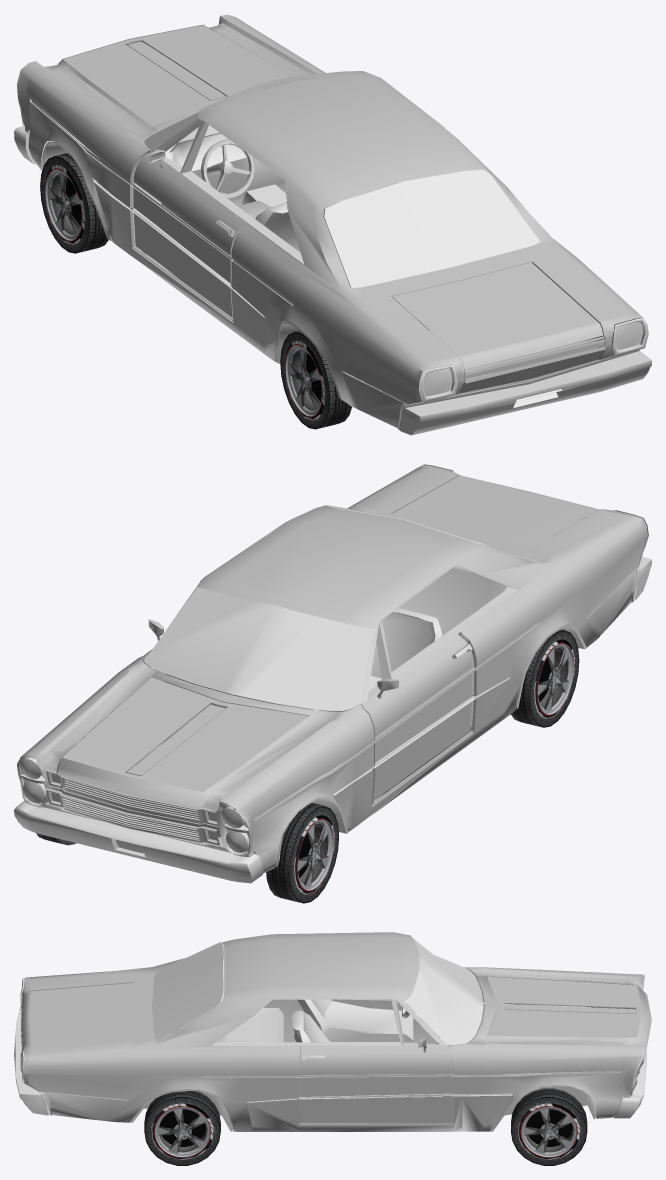
The picture shows the model from 3 angles, top to bottom: view 1: azimuth 30°, elevation 25°; view 2: azimuth 150°, elevation 25°; view 3: azimuth 270°, elevation 25°; orthographic projection. The views are drawn at different scales.
Parts seen in each view (by area): view 1: 1966 classic sedan metal.001, 1966 classic sedan glass.002, 1966 classic sedan body.004, 1966 classic sedan body.003, 1966 classic sedan metal.002, 1966 classic sedan body.001, 1966 classic sedan tire, 1966 classic sedan tire.001, 1966 classic sedan glass.001; view 2: 1966 classic sedan metal.001, 1966 classic sedan glass.001, 1966 classic sedan body.003, 1966 classic sedan body.001, 1966 classic sedan body.004, 1966 classic sedan tire, 1966 classic sedan tire.001; view 3: 1966 classic sedan metal.001, 1966 classic sedan body.002, 1966 classic sedan body.003, 1966 classic sedan body.004, 1966 classic sedan glass.001, 1966 classic sedan tire.003, 1966 classic sedan tire.002, 1966 classic sedan glass.002, 1966 classic sedan metal.002.
Part boxes in pixels (x1=…): 1966 classic sedan metal.001: x1=14, y1=14, x2=642, y2=429; 1966 classic sedan glass.002: x1=324, y1=169, x2=540, y2=287; 1966 classic sedan body.004: x1=392, y1=262, x2=603, y2=369; 1966 classic sedan body.003: x1=63, y1=25, x2=290, y2=125; 1966 classic sedan metal.002: x1=399, y1=318, x2=651, y2=435; 1966 classic sedan body.001: x1=133, y1=149, x2=246, y2=316; 1966 classic sedan tire: x1=40, y1=153, x2=108, y2=253; 1966 classic sedan tire.001: x1=280, y1=330, x2=351, y2=429; 1966 classic sedan glass.001: x1=144, y1=71, x2=352, y2=150; 1966 classic sedan metal.001: x1=14, y1=465, x2=647, y2=883; 1966 classic sedan glass.001: x1=144, y1=586, x2=372, y2=710; 1966 classic sedan body.003: x1=63, y1=677, x2=308, y2=791; 1966 classic sedan body.001: x1=359, y1=634, x2=472, y2=800; 1966 classic sedan body.004: x1=392, y1=475, x2=599, y2=547; 1966 classic sedan tire: x1=266, y1=803, x2=338, y2=903; 1966 classic sedan tire.001: x1=511, y1=629, x2=579, y2=727; 1966 classic sedan metal.001: x1=21, y1=932, x2=651, y2=1131; 1966 classic sedan body.002: x1=300, y1=1037, x2=453, y2=1122; 1966 classic sedan body.003: x1=487, y1=977, x2=642, y2=1037; 1966 classic sedan body.004: x1=21, y1=983, x2=133, y2=1049; 1966 classic sedan glass.001: x1=404, y1=938, x2=483, y2=1045; 1966 classic sedan tire.003: x1=511, y1=1088, x2=587, y2=1165; 1966 classic sedan tire.002: x1=144, y1=1091, x2=220, y2=1165; 1966 classic sedan glass.002: x1=152, y1=942, x2=223, y2=1041; 1966 classic sedan metal.002: x1=14, y1=978, x2=48, y2=1115.
Size of the model in its own units: 243 by 181 by 662.
